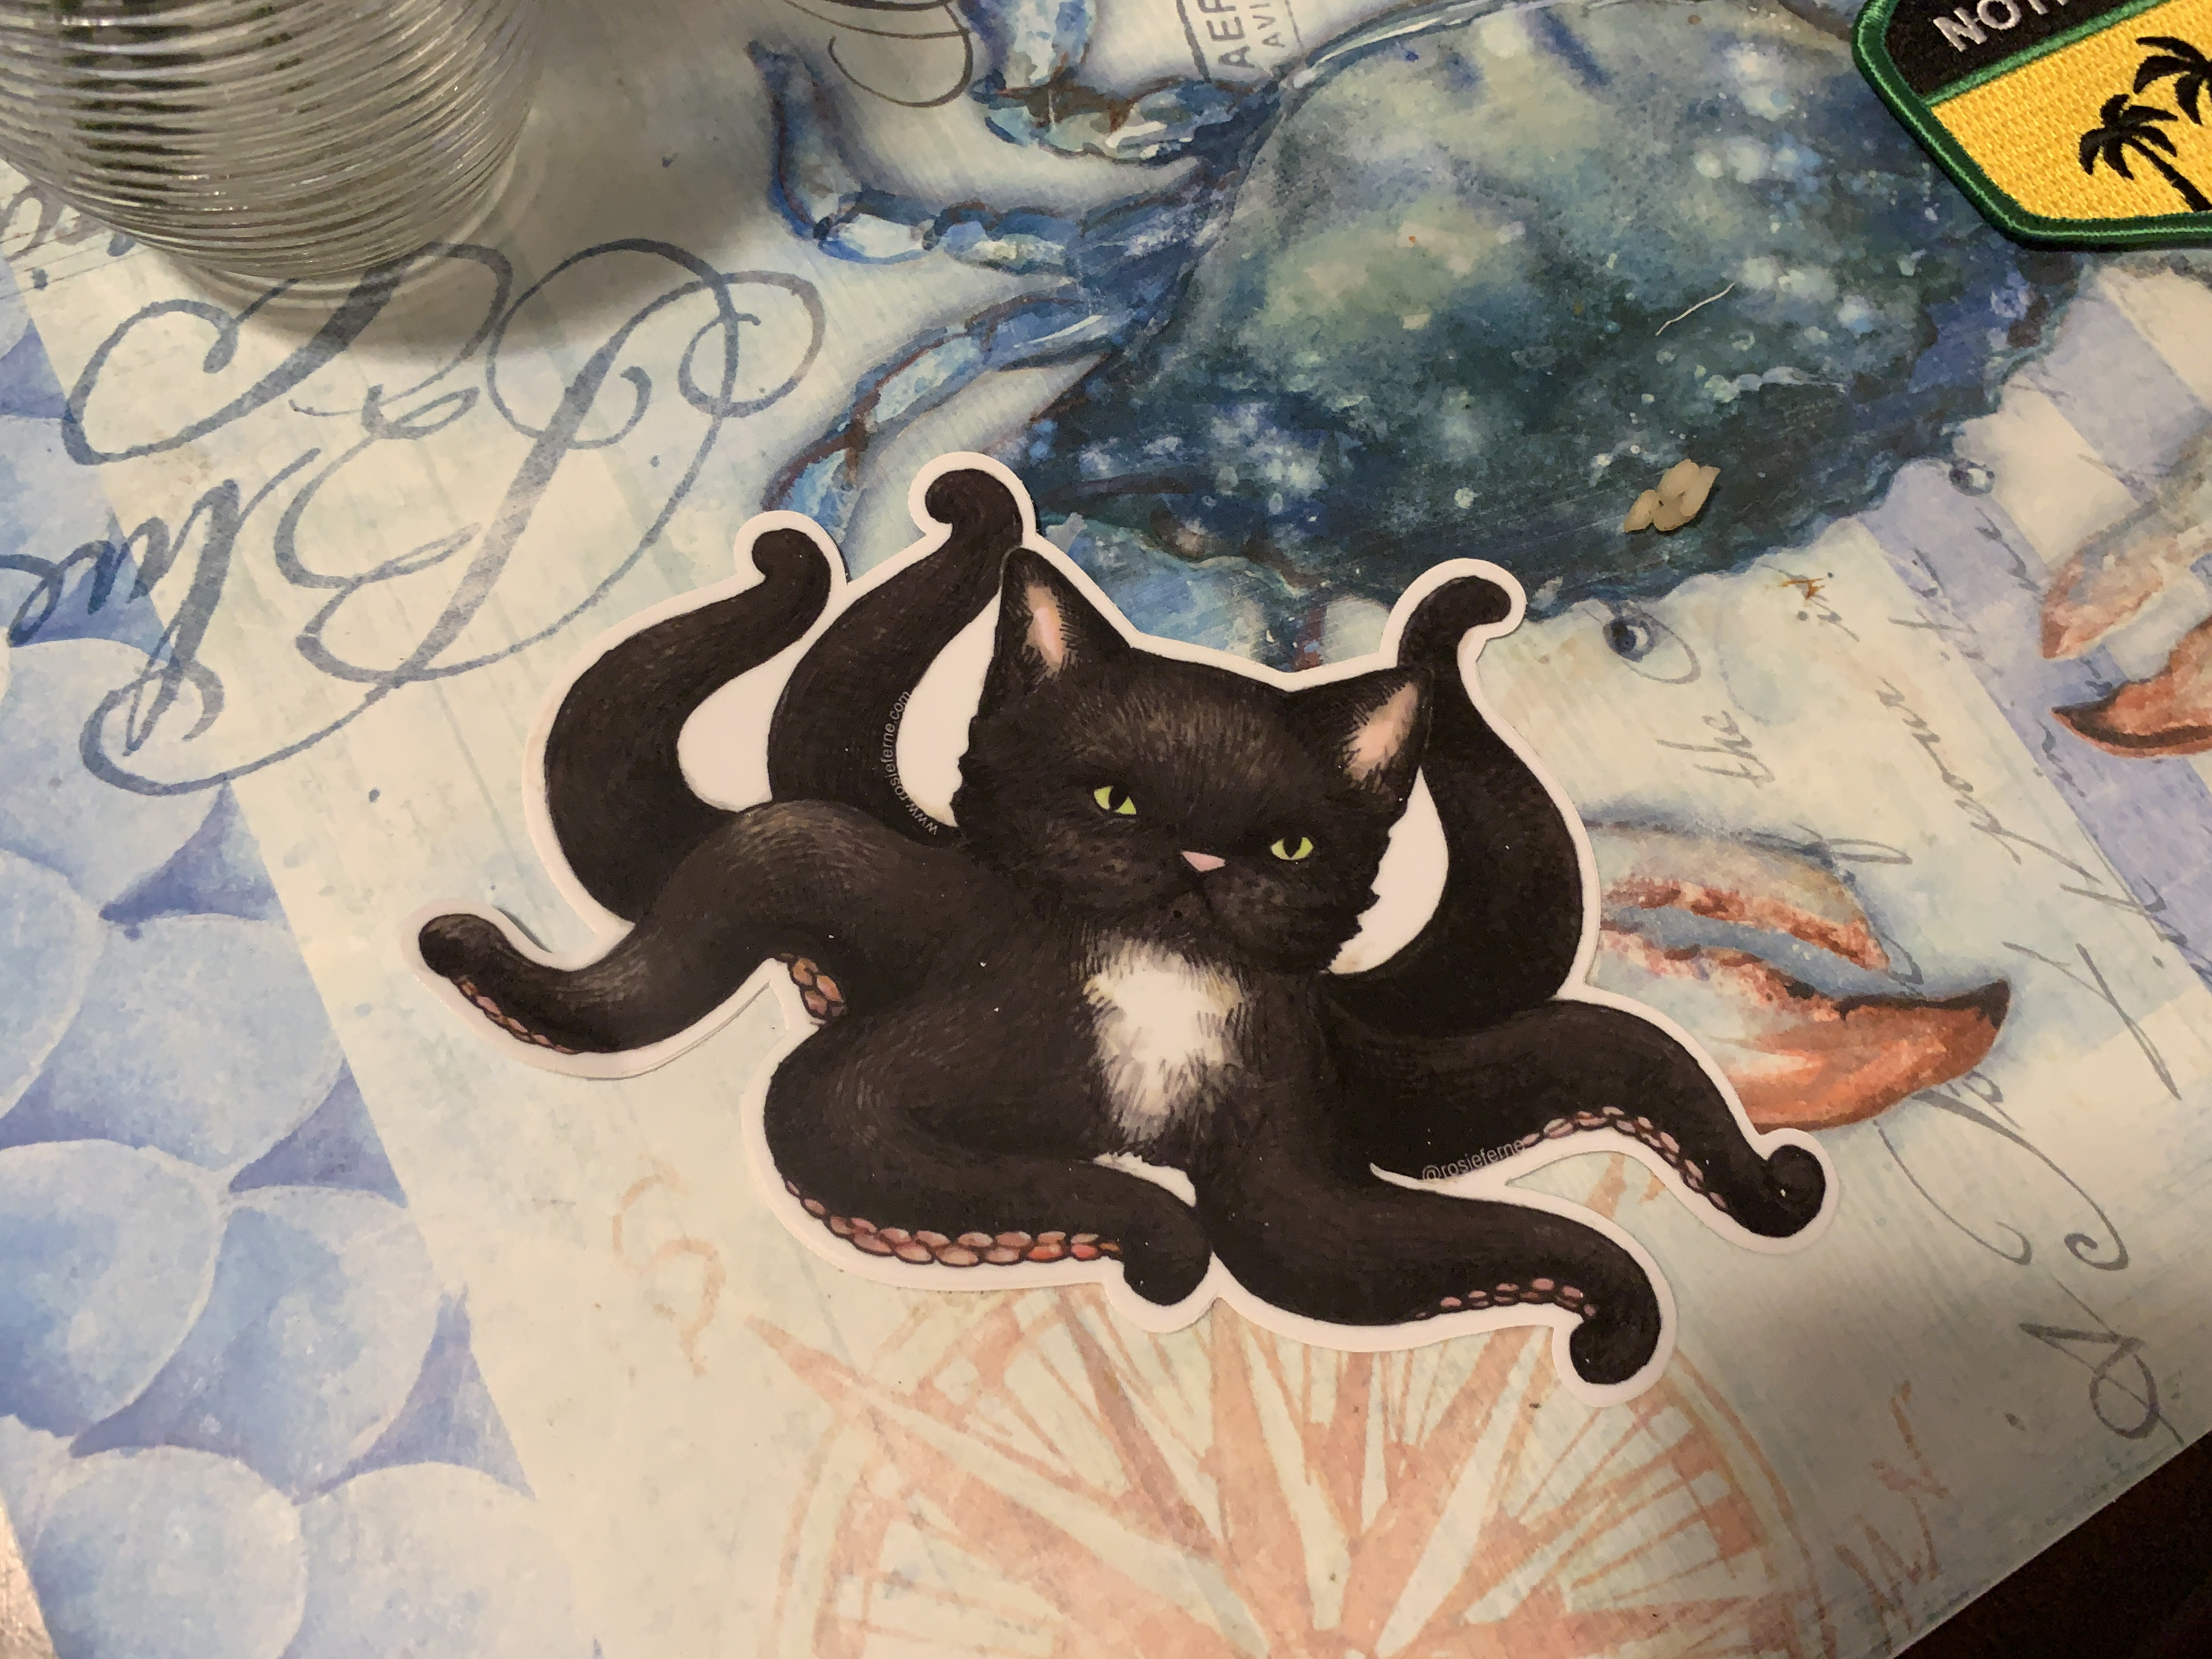Octocat-OffBrand: (408, 396, 1858, 1441)
